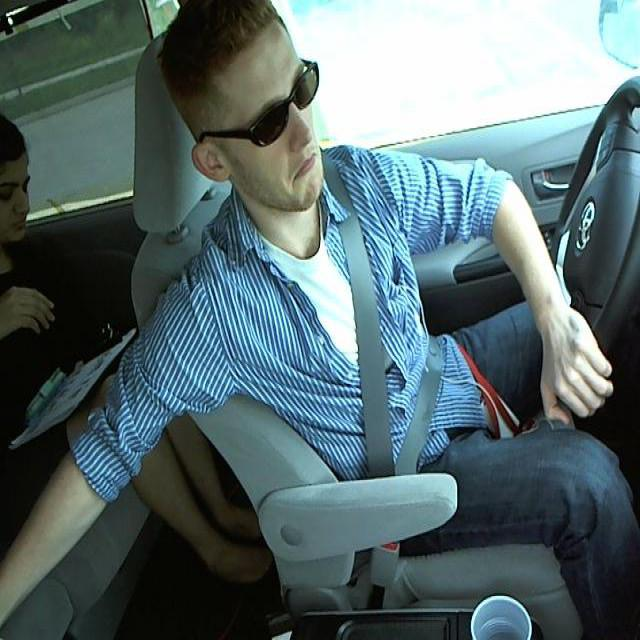seatbelt: (334, 219, 437, 472)
